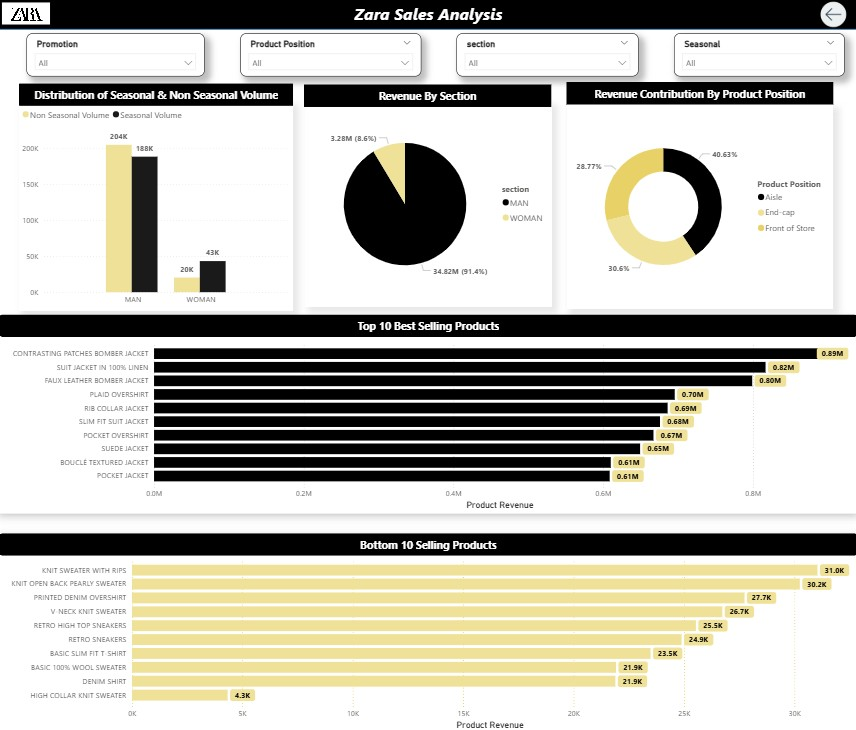

What the dashboard file says about the page in this screenshot:
{"tool":"powerbi","page":{"name":"Analysis","canvas":[1400,1200],"ordinal":2},"visuals":[{"type":"clusteredBarChart","title":"Top 10 Products by Revenue","fields":{"Y":["Zara_Sales_Analysis.Product Revenue"],"Category":["Zara_Sales_Analysis.name"]},"box":[0,531.7,1400,310],"z":0},{"type":"clusteredBarChart","title":"Bottom 10 Products by Revenue","fields":{"Y":["Zara_Sales_Analysis.Product Revenue"],"Category":["Zara_Sales_Analysis.name"]},"box":[0,885,1400,315],"z":1000},{"type":"pieChart","fields":{"Y":["Zara_Sales_Analysis.Product Revenue"],"Category":["Zara_Sales_Analysis.section"]},"box":[498.3,171.7,401.7,333.3],"z":2000},{"type":"clusteredColumnChart","fields":{"Category":["Zara_Sales_Analysis.section"],"Y":["Zara_Sales_Analysis.Non Seasonal Volume","Zara_Sales_Analysis.Seasonal Volume"]},"box":[33.3,171.7,446.7,340],"z":3000},{"type":"donutChart","title":"Revenue Contribution by Product Position (%)","fields":{"Category":["Zara_Sales_Analysis.Product Position"],"Y":["Zara_Sales_Analysis.Revenue Mix %"]},"box":[925,175,435,333.3],"z":4000},{"type":"slicer","fields":{"Values":["Zara_Sales_Analysis.Product Position"]},"box":[393.3,58.3,295,70],"z":5000},{"type":"slicer","fields":{"Values":["Zara_Sales_Analysis.section"]},"box":[745,58.3,296.7,70],"z":6000},{"type":"slicer","fields":{"Values":["Zara_Sales_Analysis.Promotion"]},"box":[45,58.3,290,70],"z":7000},{"type":"slicer","fields":{"Values":["Zara_Sales_Analysis.Seasonal"]},"box":[1100,58.3,278.3,70],"z":8000},{"type":"shape","box":[0,0,1400,52.9],"z":9000},{"type":"image","box":[0,4.3,88.6,45.7],"z":10000},{"type":"shape","box":[32.9,141.4,447.1,37.1],"z":11000},{"type":"shape","box":[496.7,141.7,403.3,36.7],"z":12000},{"type":"shape","box":[925,138.3,435,36.7],"z":13000},{"type":"shape","box":[0,518.3,1400,36.7],"z":14000},{"type":"shape","box":[0,873.3,1400,36.7],"z":15000},{"type":"image","box":[1333.3,0,55,56.7],"z":16000}]}

Visuals, with their boxes in screenshot pixels (x1, y1, x2, y2), scaled from the page's 1400x1200 canvas onto the 856x730 screenshot:
"Top 10 Products by Revenue" clusteredBarChart: <bbox>0, 323, 855, 512</bbox>
"Bottom 10 Products by Revenue" clusteredBarChart: <bbox>0, 538, 855, 729</bbox>
pieChart - Zara_Sales_Analysis.Product Revenue x Zara_Sales_Analysis.section: <bbox>305, 104, 550, 307</bbox>
clusteredColumnChart - Zara_Sales_Analysis.section x Zara_Sales_Analysis.Non Seasonal Volume: <bbox>20, 104, 293, 311</bbox>
"Revenue Contribution by Product Position (%)" donutChart: <bbox>566, 106, 832, 309</bbox>
slicer - Zara_Sales_Analysis.Product Position: <bbox>240, 35, 421, 78</bbox>
slicer - Zara_Sales_Analysis.section: <bbox>456, 35, 637, 78</bbox>
slicer - Zara_Sales_Analysis.Promotion: <bbox>28, 35, 205, 78</bbox>
slicer - Zara_Sales_Analysis.Seasonal: <bbox>673, 35, 843, 78</bbox>
shape: <bbox>0, 0, 855, 32</bbox>
image: <bbox>0, 3, 54, 30</bbox>
shape: <bbox>20, 86, 293, 109</bbox>
shape: <bbox>304, 86, 550, 109</bbox>
shape: <bbox>566, 84, 832, 106</bbox>
shape: <bbox>0, 315, 855, 338</bbox>
shape: <bbox>0, 531, 855, 554</bbox>
image: <bbox>815, 0, 849, 34</bbox>
